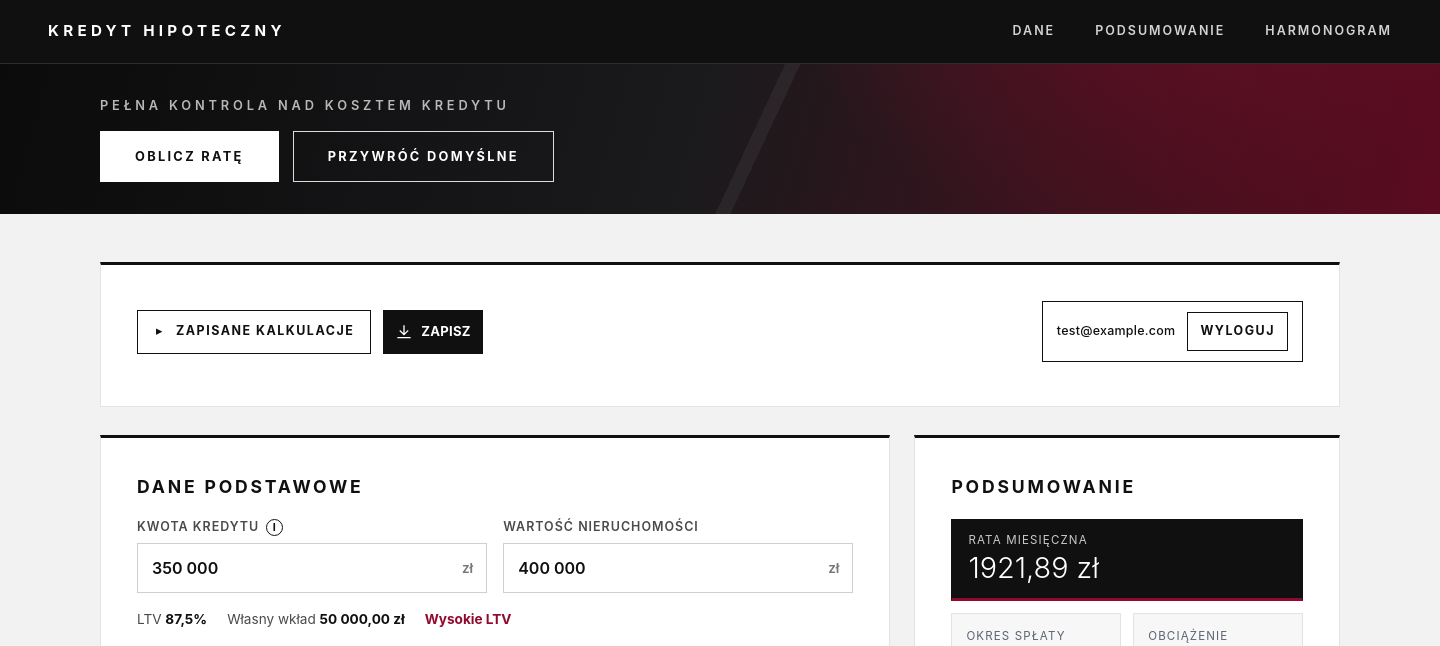
Test case: save button behavior › saves a new record with the typed name and marks it as the open calculation
expect the button "▸ Zapisane kalkulacje" is shown: met, box [137,310,371,354]
Click the button with class "save-disk-button" at point(433, 332), box [383,310,483,354]
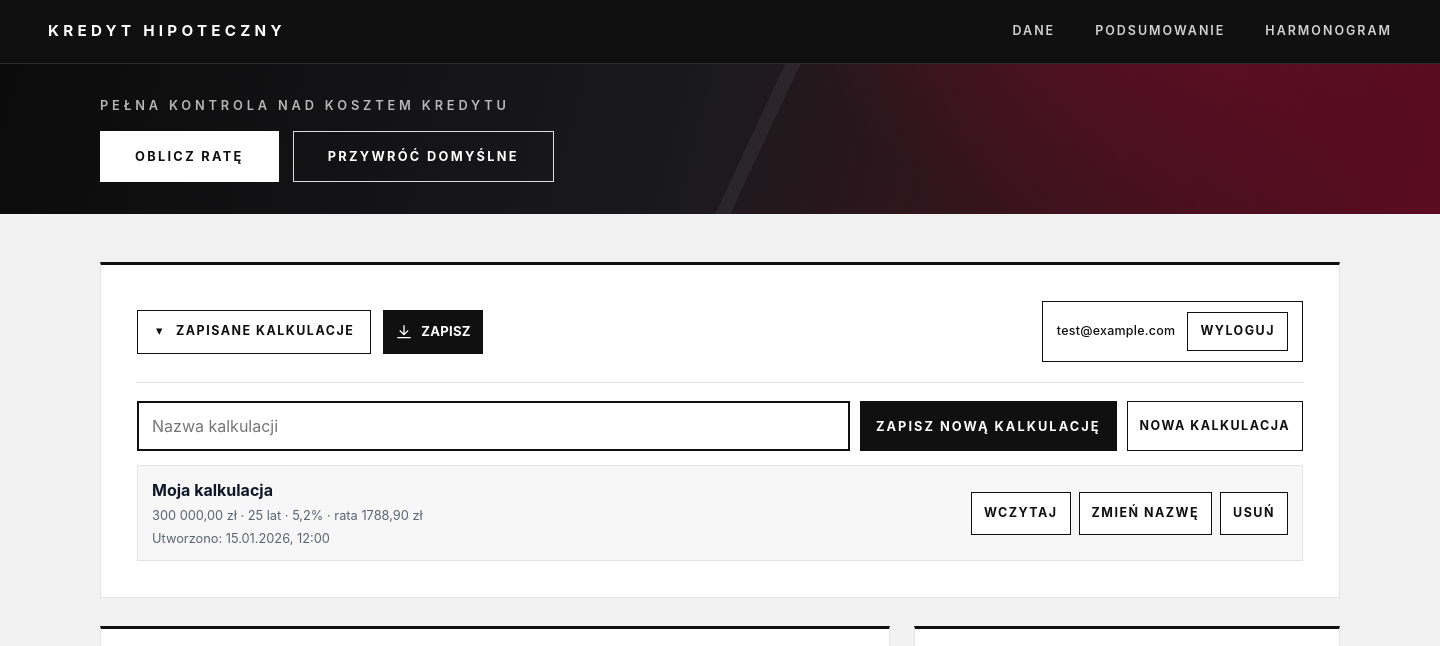
Type "Nowa kalkulacja" into the field with placeholder "Nazwa kalkulacji" at point(493, 426), box [137,401,850,451]
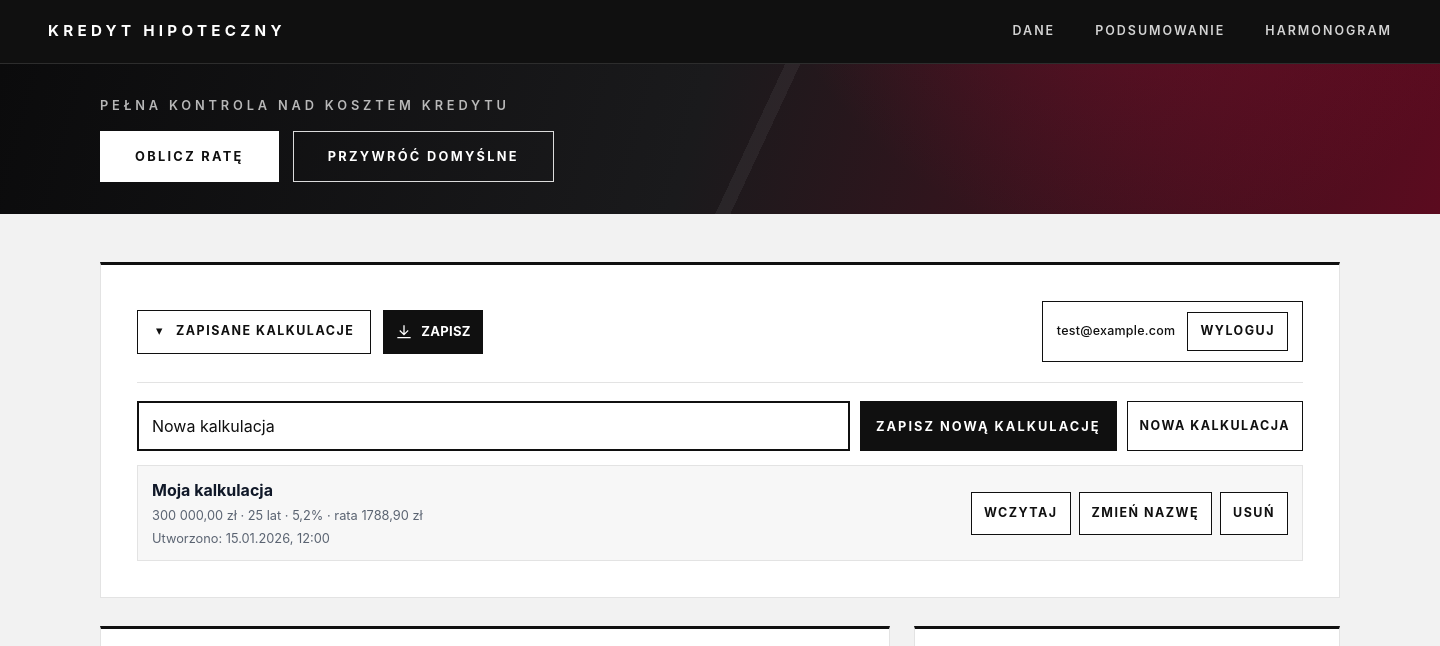
Click the button "Zapisz nową kalkulację" at point(988, 426), box [860,401,1117,451]
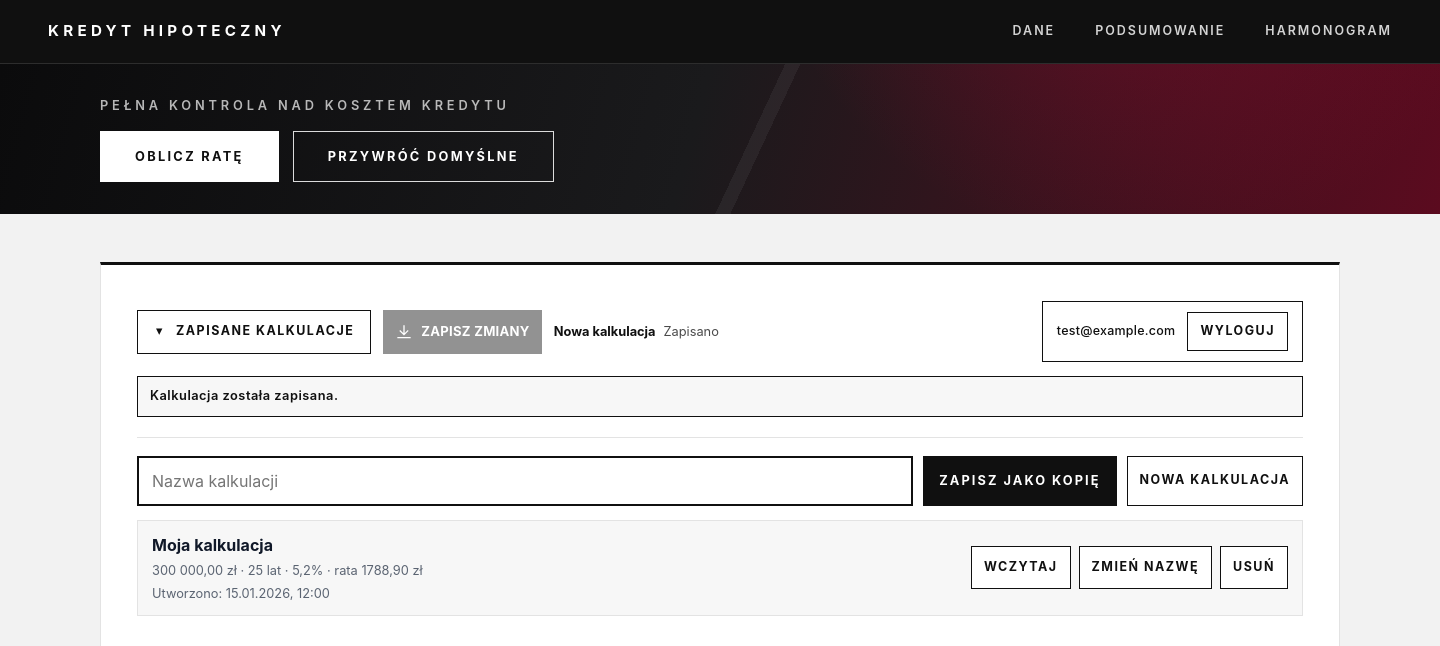
expect the field with placeholder "Nazwa kalkulacji" is empty: met, box [137,456,913,506]
expect the message with class "save-status" shows "Nowa kalkulacja": met, box [554,324,656,339]
